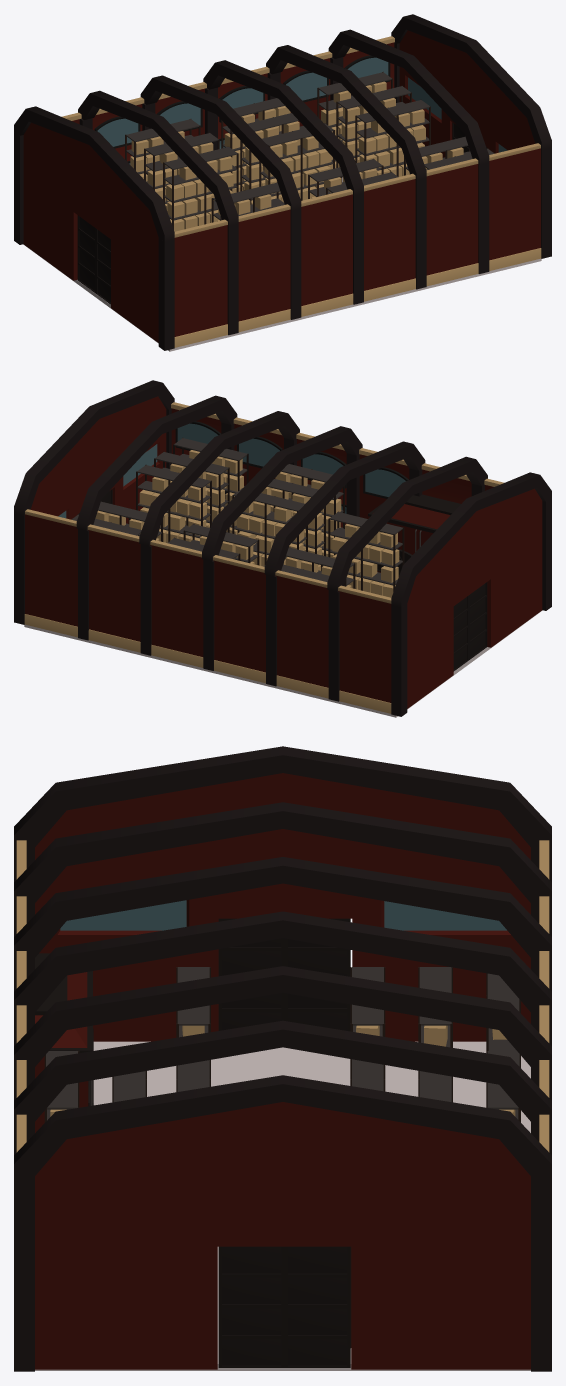
File: SM_WarehouseInterior.FBX
3 renders of one model, top to bottom at view 1: azimuth 30°, elevation 25°; view 2: azimuth 150°, elevation 25°; view 3: azimuth 270°, elevation 25°, orthographic. The views are drawn at different scales.
Parts seen in each view (by area): view 1: SM_Warehouse; view 2: SM_Warehouse; view 3: SM_Warehouse.
Part boxes in pixels (x1,y1,x2,y2): SM_Warehouse: (14, 14, 551, 351); SM_Warehouse: (14, 380, 551, 717); SM_Warehouse: (14, 746, 551, 1371).
Bounding box in the file's own units: 37.12 × 15.08 × 24.98.
